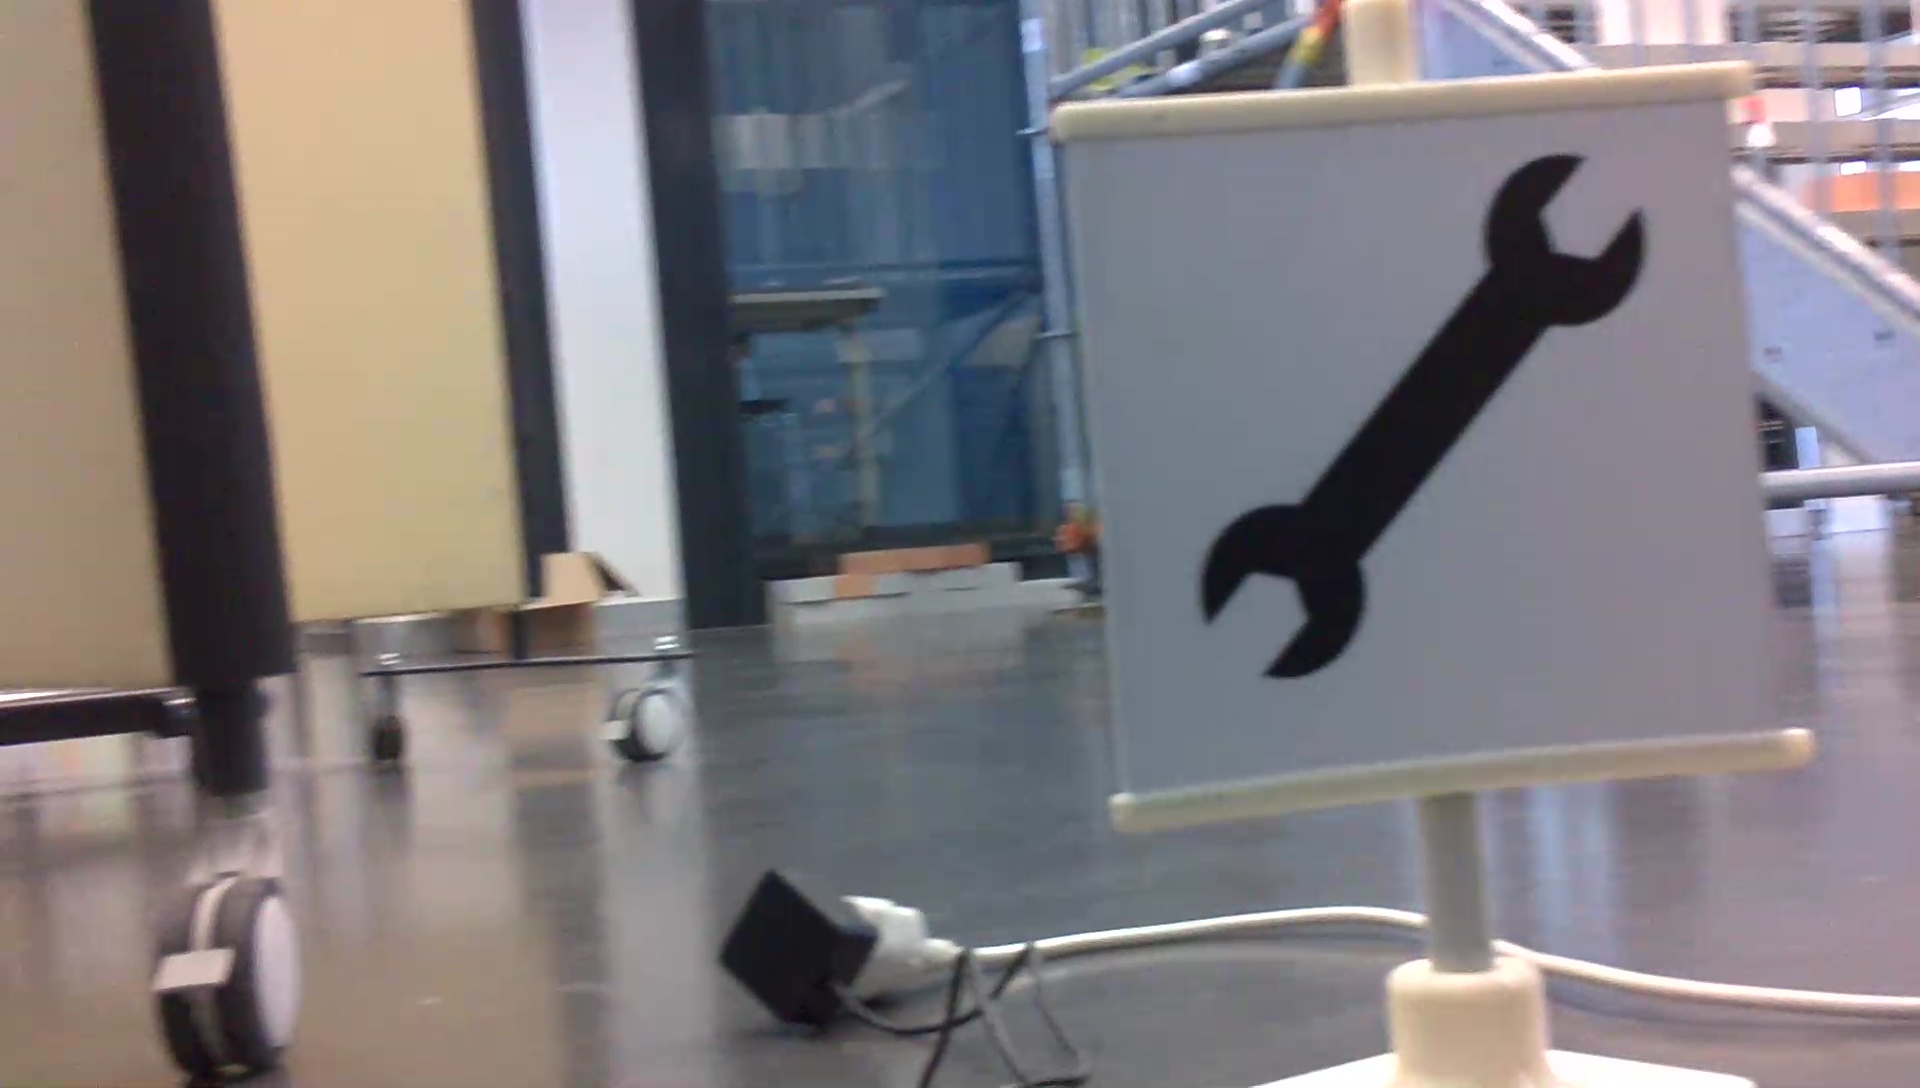wrench: (1183, 138, 1663, 698)
